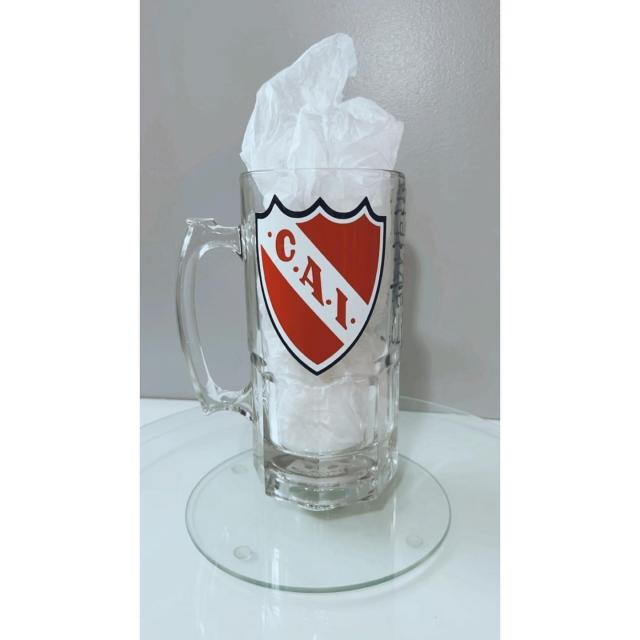glass-mug: (175, 159, 418, 516)
